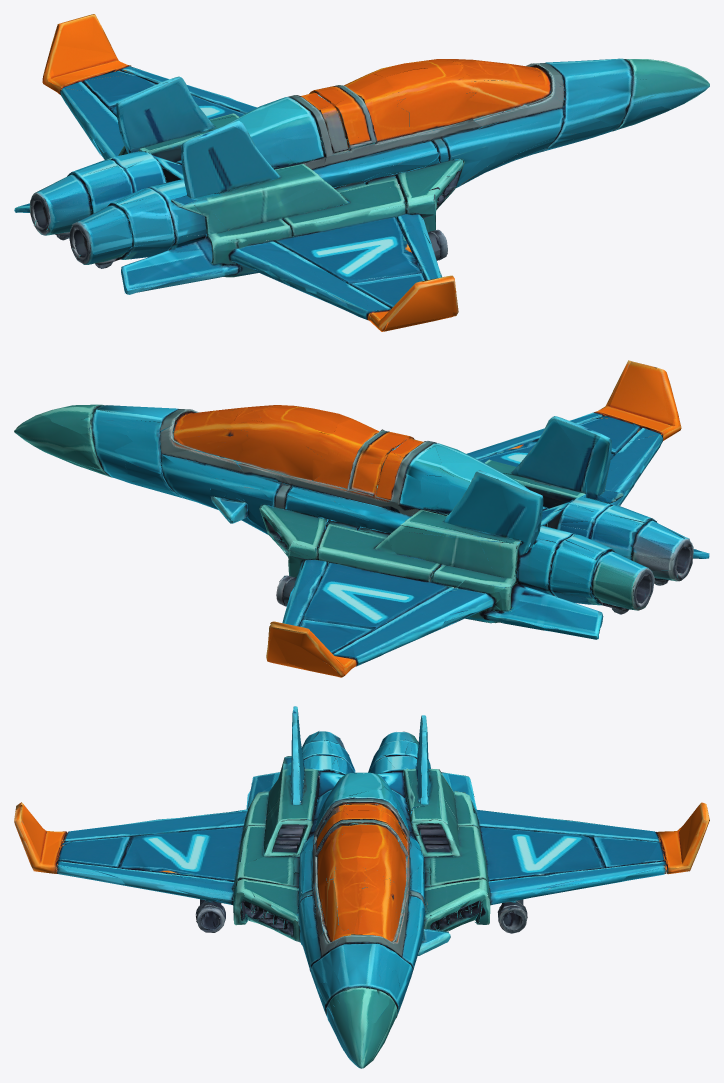
Rendered from player_ship.glb.
3 renders of one model, top to bottom at view 1: azimuth 30°, elevation 25°; view 2: azimuth 150°, elevation 25°; view 3: azimuth 270°, elevation 25°, orthographic. The views are drawn at different scales.
Parts seen in each view (by area): view 1: PlayerStarfighter; view 2: PlayerStarfighter; view 3: PlayerStarfighter.
Boxes of the visible parts, x1=… form: PlayerStarfighter: x1=14, y1=14, x2=709, y2=331; PlayerStarfighter: x1=14, y1=360, x2=709, y2=677; PlayerStarfighter: x1=14, y1=706, x2=709, y2=1068.
Bounding box in the file's own units: 2 × 0.4252 × 1.93.
1 material, 1 textured.
